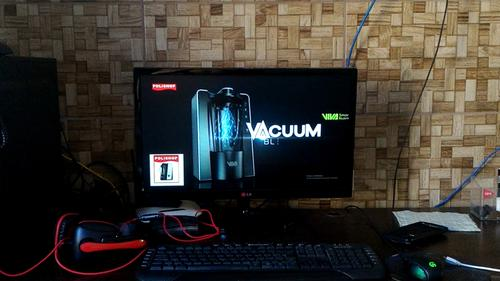Polishop #1: (150, 154, 184, 186)
